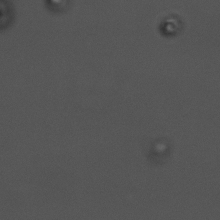Dead Cell: (157, 12, 187, 43), (146, 140, 175, 166), (1, 1, 16, 32), (45, 1, 69, 11)
